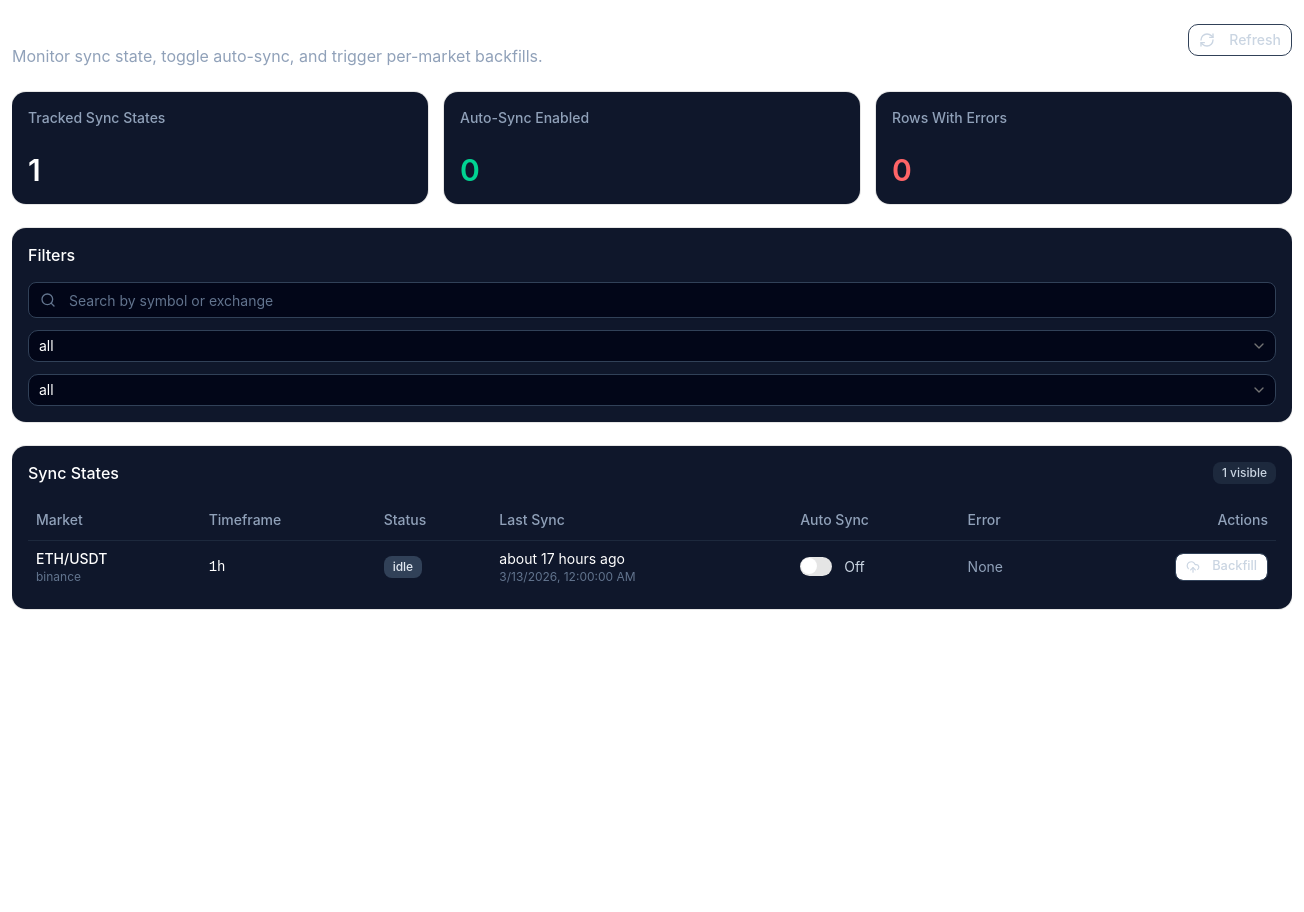
Test: SyncPage › polls backfill status until the task completes
Check: the text "ETH/USDT" is shown, box [36, 550, 107, 566]
Click the button "Backfill": (1222, 566) [1175, 552, 1268, 580]
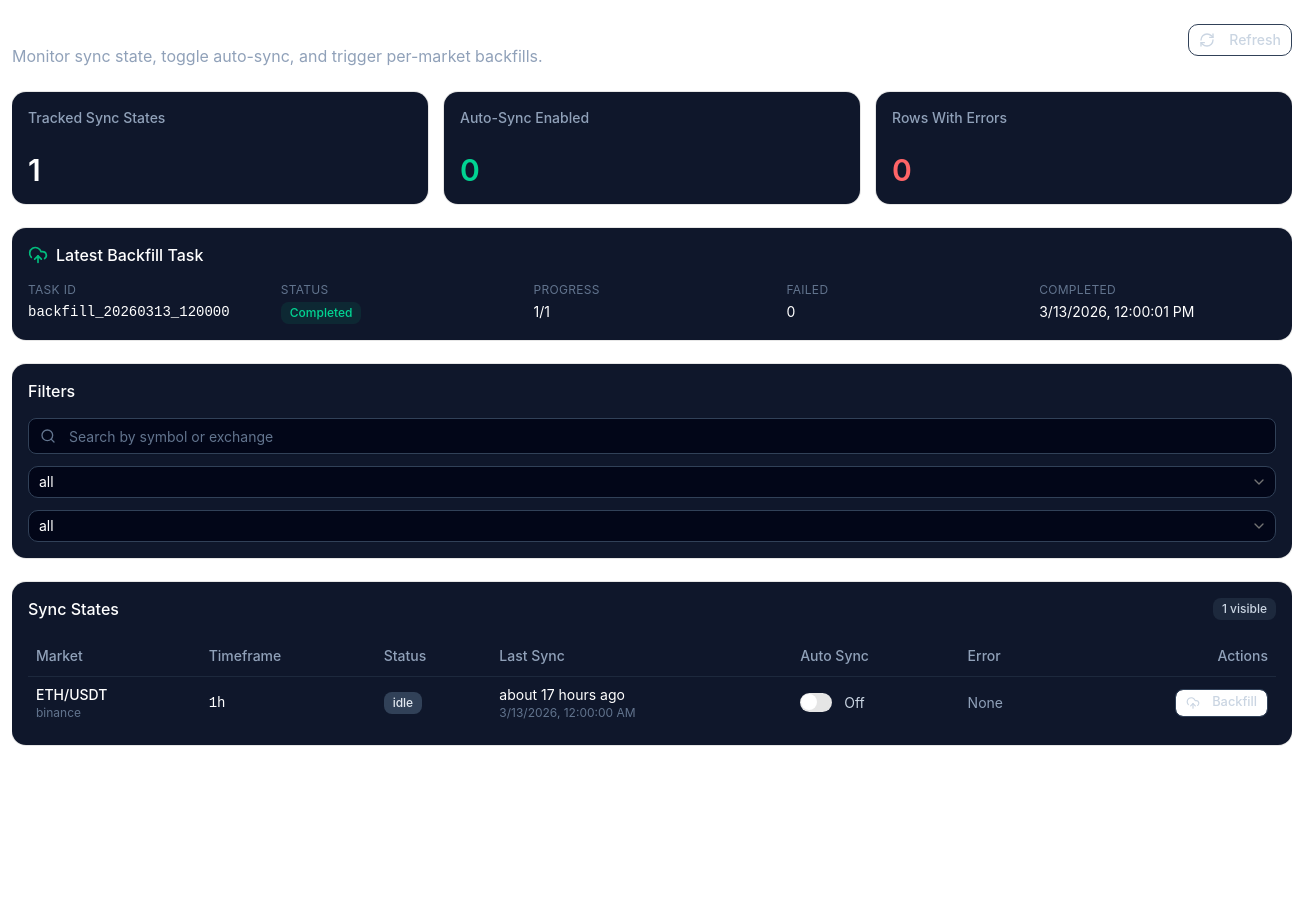
Check: the text "Latest Backfill Task" is shown, box [28, 245, 203, 265]
